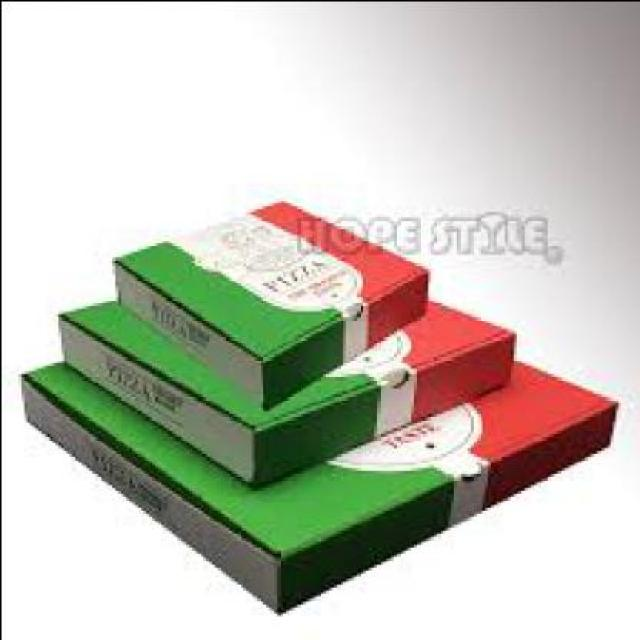CARDBOARD: (17, 355, 614, 614), (54, 299, 512, 483), (108, 200, 424, 412)
